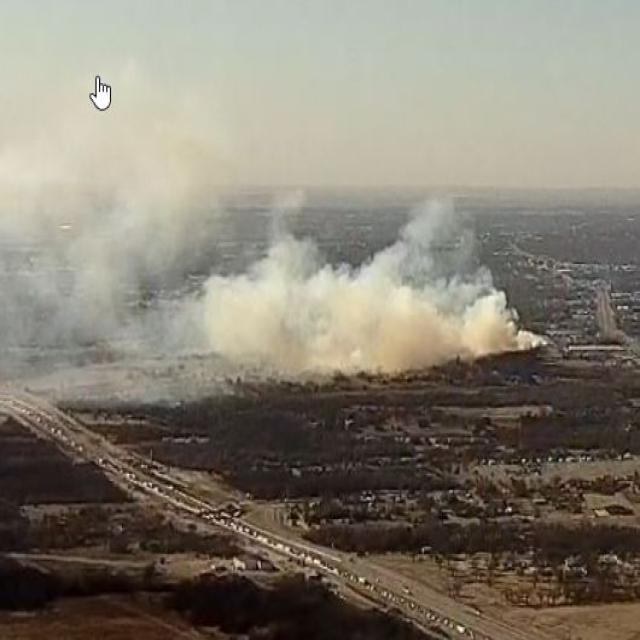Smoke: (0, 23, 553, 366)
